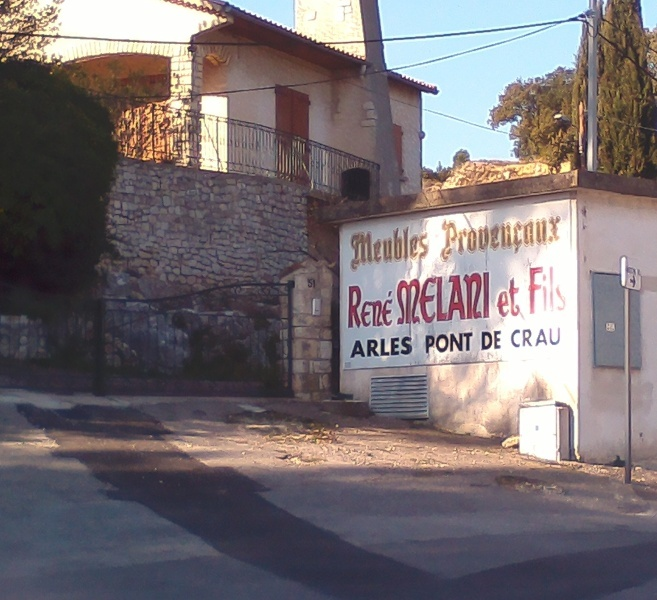text: (401, 271, 416, 326), (417, 271, 432, 326), (433, 271, 448, 326), (449, 271, 464, 326), (465, 271, 480, 326), (449, 210, 464, 263), (465, 210, 480, 263), (481, 210, 496, 263), (497, 210, 512, 263), (513, 210, 528, 263), (529, 210, 544, 263), (545, 210, 560, 263), (353, 222, 368, 273), (369, 222, 384, 273), (385, 222, 400, 273), (401, 222, 416, 273), (529, 264, 544, 315), (545, 264, 560, 315), (353, 283, 368, 331), (369, 283, 384, 331), (417, 222, 431, 273), (497, 274, 512, 319), (481, 271, 491, 326), (438, 210, 448, 263), (513, 274, 524, 319), (385, 283, 395, 331), (433, 331, 448, 355), (449, 331, 464, 355), (369, 336, 384, 359), (385, 336, 400, 359), (513, 326, 528, 349), (529, 326, 544, 349), (545, 326, 560, 349), (561, 264, 567, 315), (355, 336, 368, 359), (401, 336, 414, 359), (482, 330, 496, 351), (395, 271, 400, 326), (347, 222, 352, 273), (465, 331, 474, 355), (561, 210, 565, 263), (348, 283, 352, 331), (497, 330, 504, 351), (426, 331, 432, 355), (627, 266, 640, 277), (308, 279, 320, 289), (561, 326, 562, 349), (641, 266, 643, 277)
